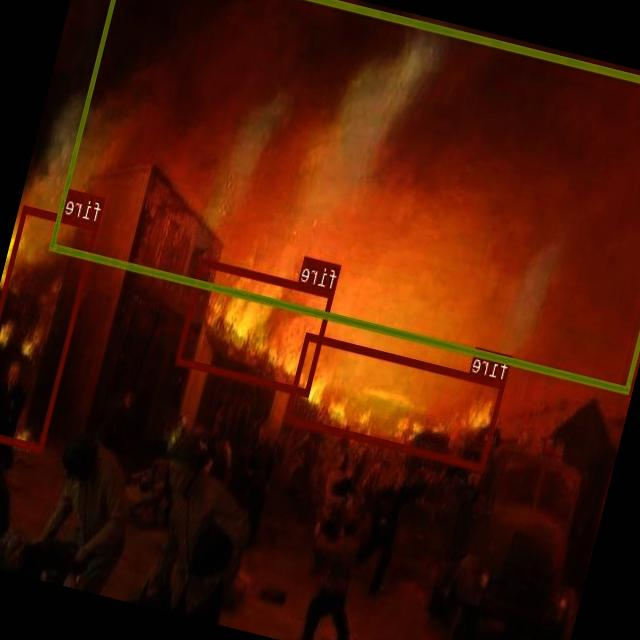fire: (285, 330, 506, 470), (0, 205, 99, 452), (176, 256, 335, 396)
smoke: (50, 0, 640, 393)
